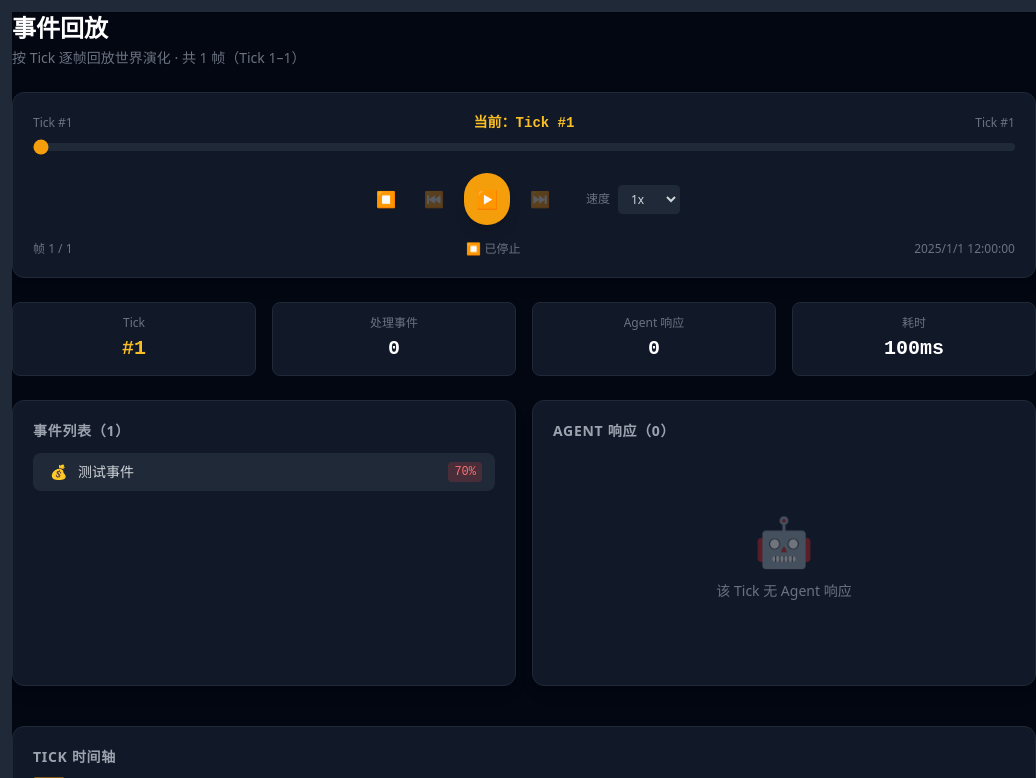
Test: TimelineReplay › 点击事件应高亮选中状态
Click the button with test id "event-item-e1": x=106, y=472 x1=33 y1=453 x2=495 y2=491
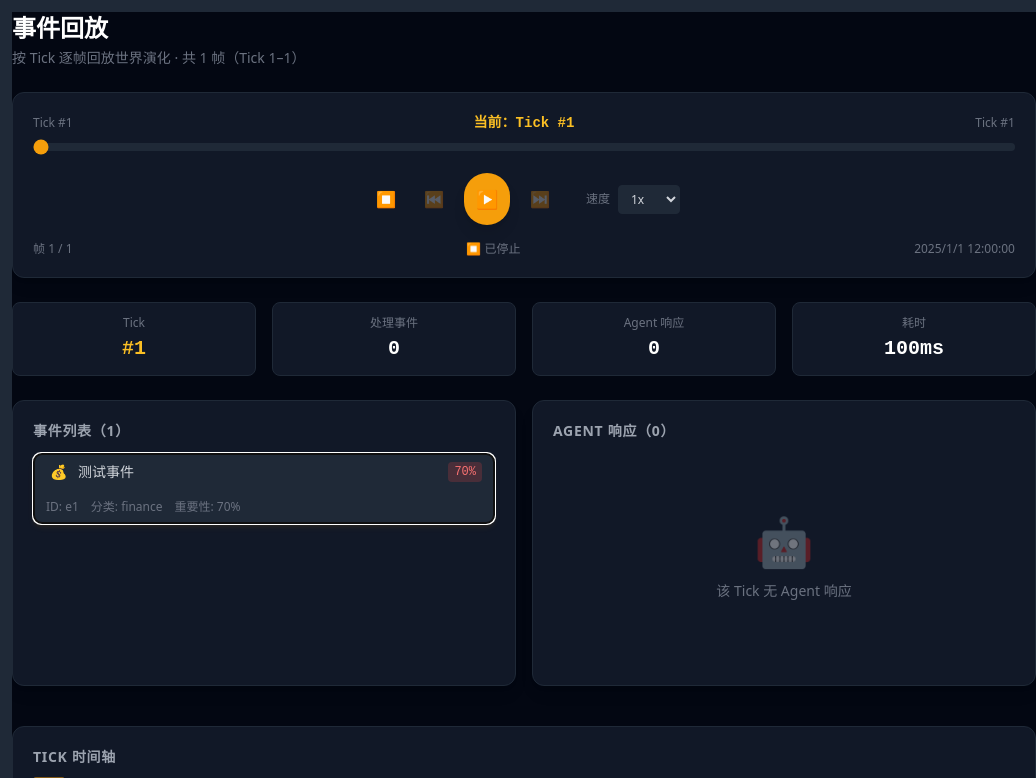
Expected: the text "ID: e1" is shown, x1=46 y1=498 x2=79 y2=515
